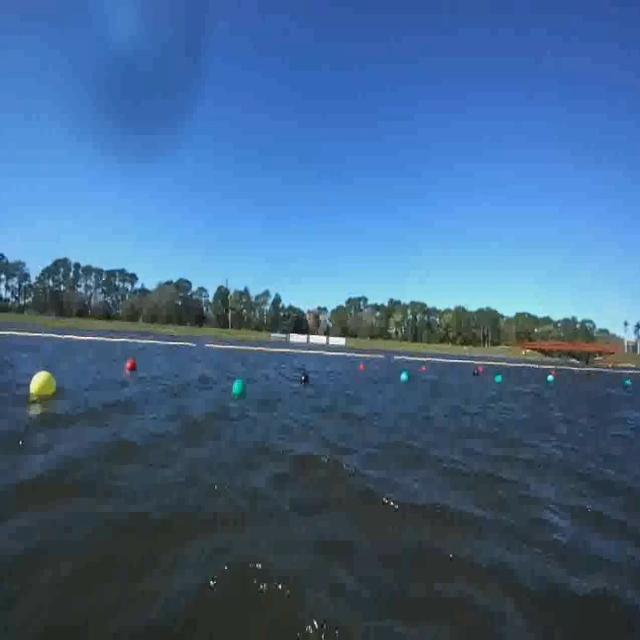black-buoy: (298, 365, 311, 389)
green-buoy: (235, 379, 248, 400), (399, 369, 408, 383), (495, 375, 503, 385)
red-buoy: (128, 359, 138, 372)
yellow-buoy: (30, 371, 58, 397)
